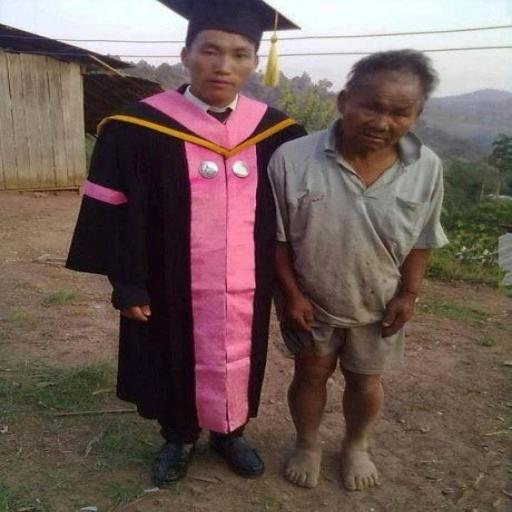hole: (60, 0, 459, 495)
laptop: (58, 0, 315, 487), (268, 48, 456, 494)
